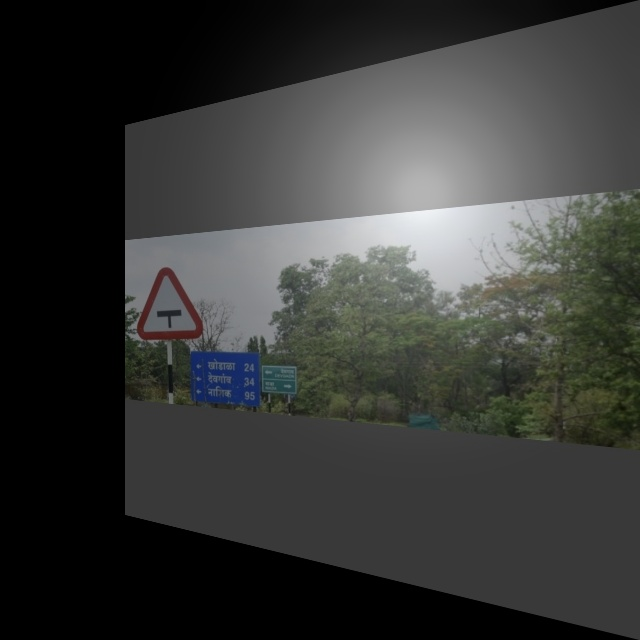T_Intersection: (135, 263, 206, 348)
